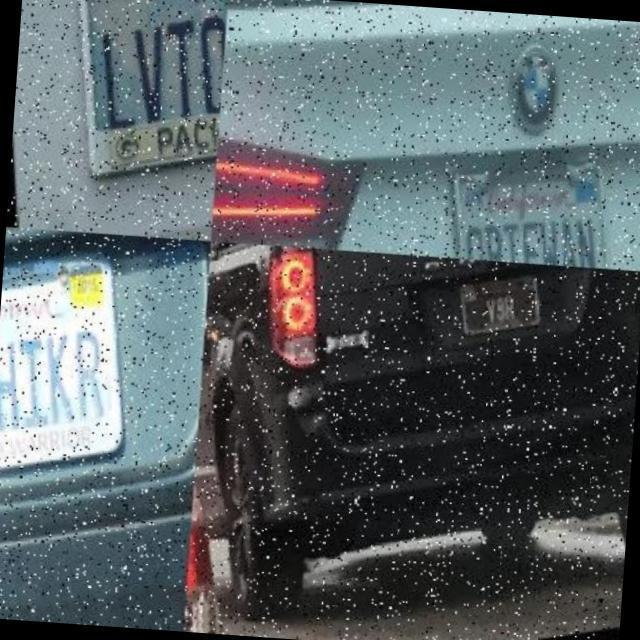License Plate: (0, 244, 140, 502), (54, 1, 226, 188), (444, 137, 620, 270), (457, 280, 537, 340)
